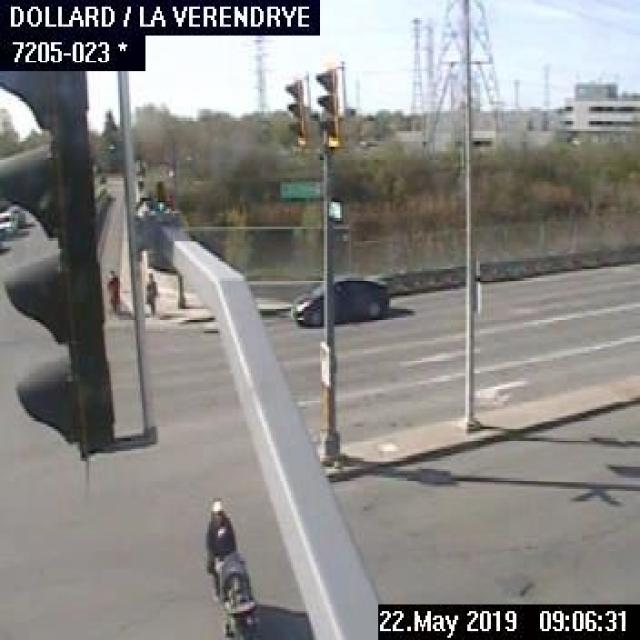pedestrian: (200, 496, 260, 638), (102, 262, 120, 316), (142, 269, 158, 318)
vehicle: (288, 269, 391, 324), (0, 206, 16, 235)
